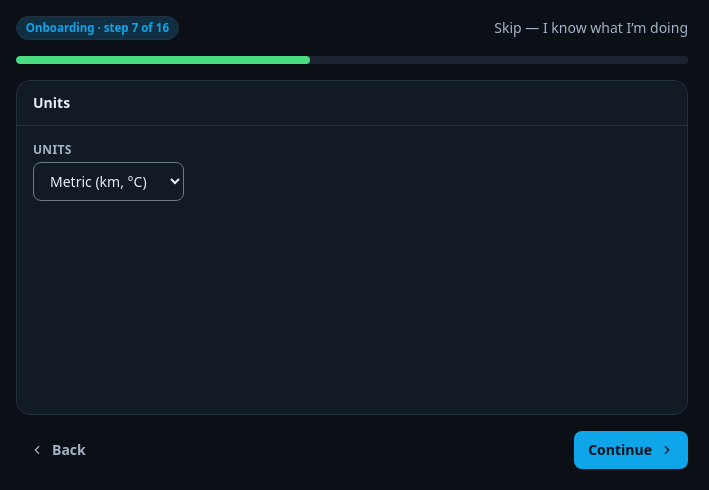
Test: OnboardingPage › saves units, time zone, and retention before advancing
This screenshot has width=709, height=490.
expect the text "Onboarding · step 7 of 16" is shown: met, box 16,16 -> 179,40
Select "Imperial (mi, °F)" in the dropdown labelled "Units": (108, 182) 33,162 -> 184,201
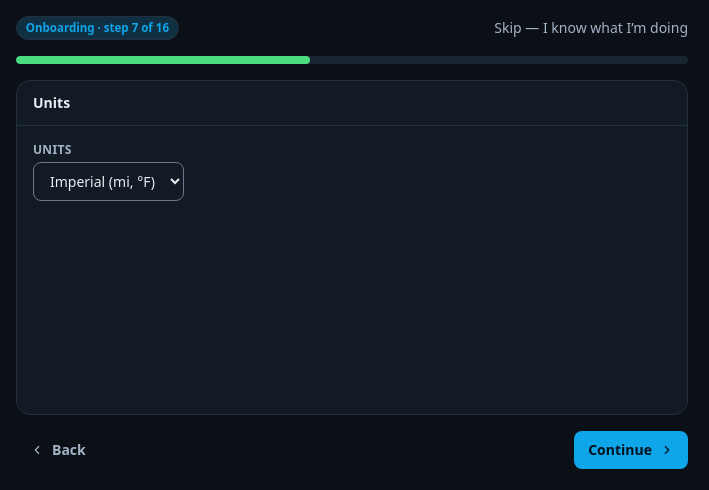
Click the button "Continue": (631, 450) 574,431 -> 688,469
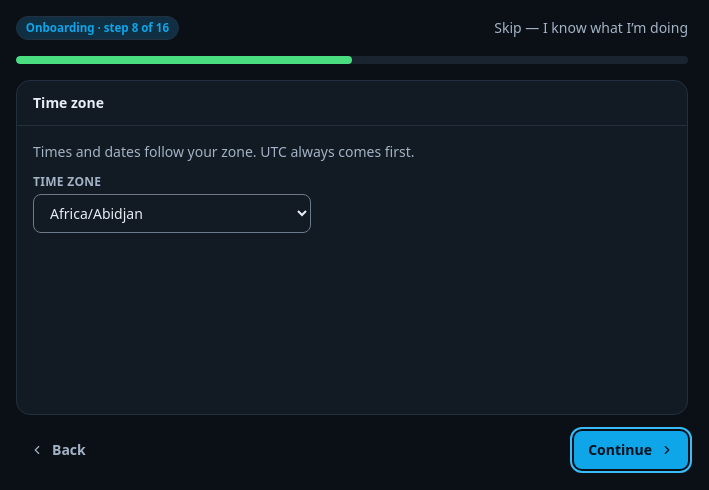
expect the text "Onboarding · step 8 of 16" is shown: met, box 16,16 -> 179,40
Select "America/New_York" in the dropdown labelled "Time zone": (172, 214) 33,194 -> 311,233
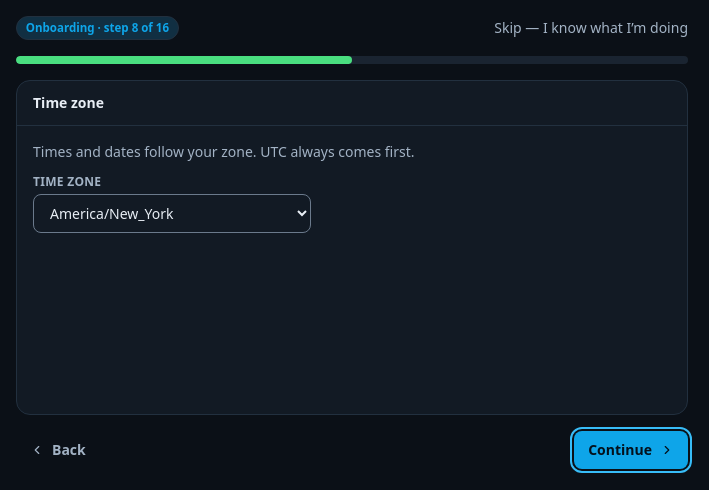
Click the button "Continue": (631, 450) 574,431 -> 688,469
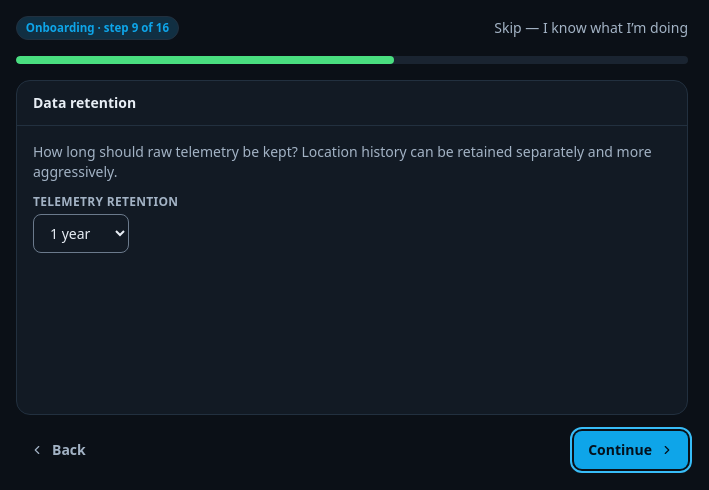
expect the text "Onboarding · step 9 of 16" is shown: met, box 16,16 -> 179,40
Select "90 days" in the dropdown labelled "Telemetry retention": (81, 234) 33,214 -> 129,253
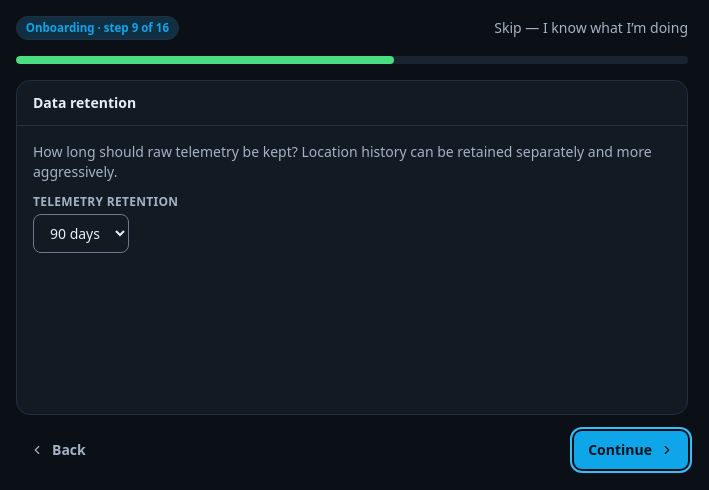
Click the button "Continue": (631, 450) 574,431 -> 688,469
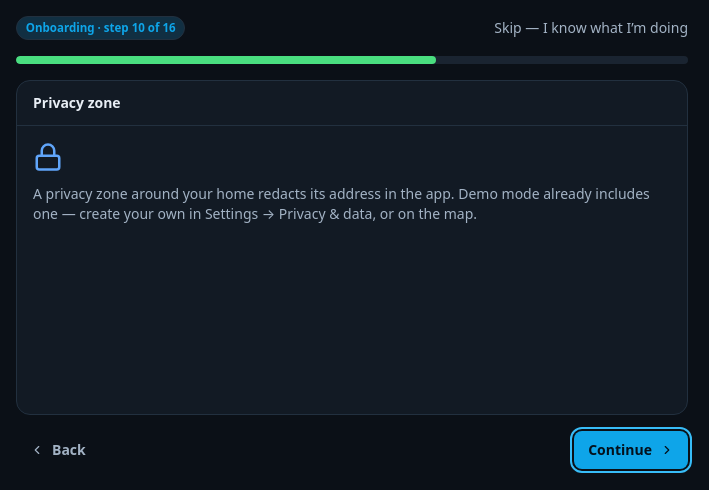
expect the text "Onboarding · step 10 of 16" is shown: met, box 16,16 -> 185,40
